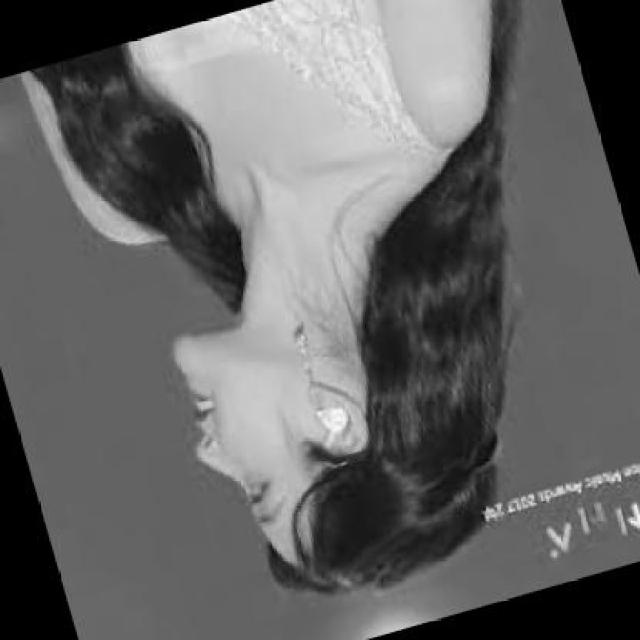earphone: (311, 396, 366, 454)
